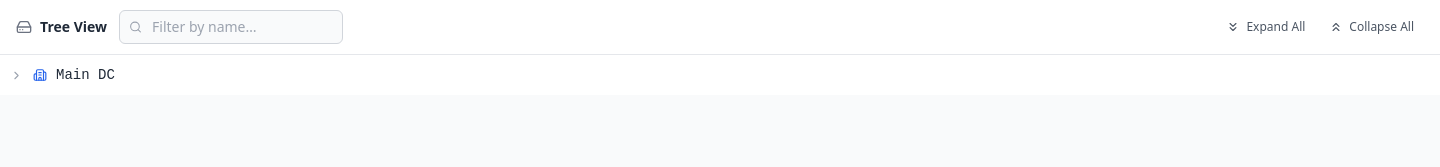
TreeView page › lazy-loads racks when room is expanded
Check: the text "Main DC" is shown, box [56,67,115,83]
What coordinates should you click on to do the following:
click the button named "Expand"
I would click on:
 (16, 75)
Its box is [6,65,26,85].
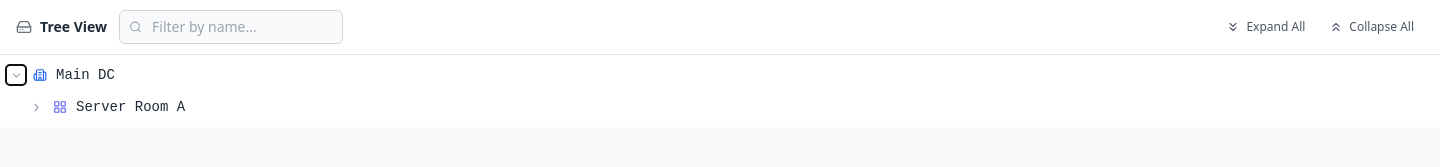
Check: the text "Server Room A" is shown, box [76,99,185,115]
What coordinates should you click on to do the following:
click the button named "Expand"
I would click on:
 (36, 107)
Its box is [26,97,46,117].
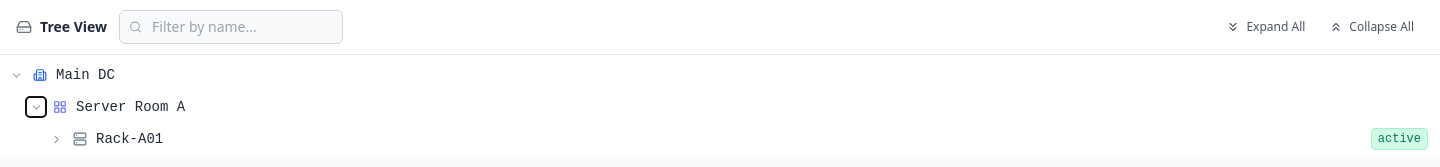
Check: the text "Rack-A01" is shown, box [96,131,163,147]
